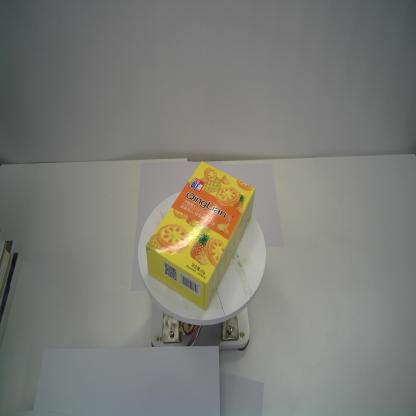Dessert: (145, 159, 257, 313)
